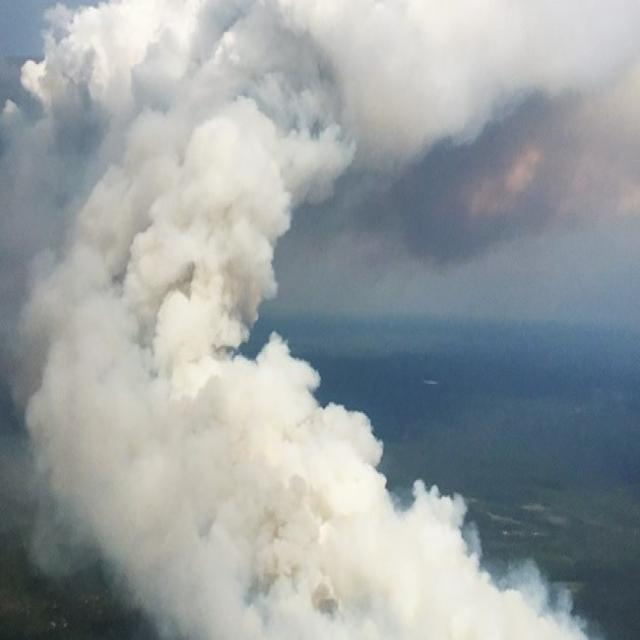Smoke: (29, 26, 587, 640)
